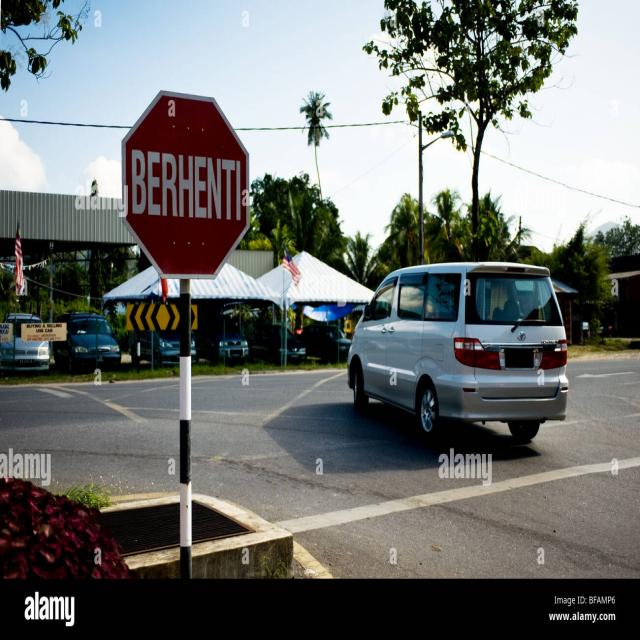stop-sign: (119, 87, 252, 295)
